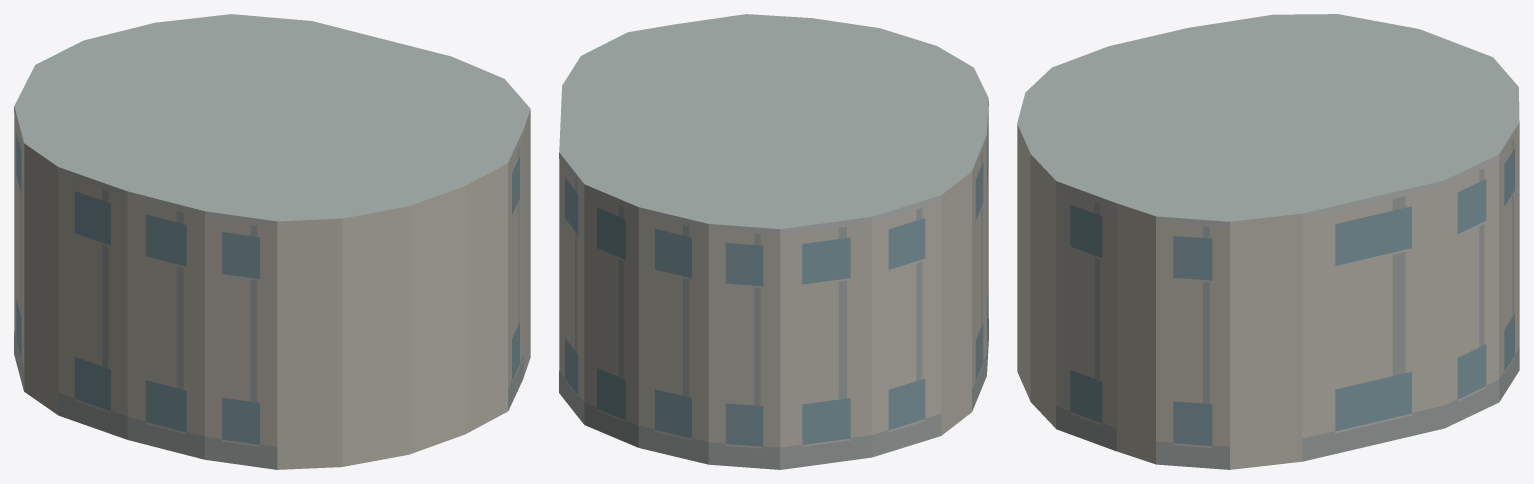
Rendered from survey-upis-33047532.glb.
3 renders of one model, left to right at view 1: azimuth 30°, elevation 25°; view 2: azimuth 150°, elevation 25°; view 3: azimuth 270°, elevation 25°, orthographic. The views are drawn at different scales.
Visible parts, largest first — view 1: survey-upis-33047532.tmp; view 2: survey-upis-33047532.tmp; view 3: survey-upis-33047532.tmp.
Part boxes in pixels (left/top/right/bottom): survey-upis-33047532.tmp: left=14, top=14, right=530, bottom=469; survey-upis-33047532.tmp: left=559, top=14, right=988, bottom=469; survey-upis-33047532.tmp: left=1017, top=14, right=1519, bottom=469.
Bounding box in the file's own units: 16.44 × 9.15 × 16.8.
